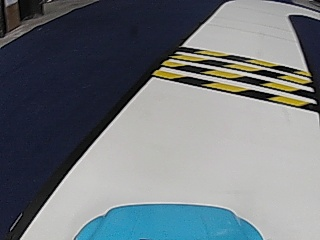bump: (177, 49, 297, 104)
